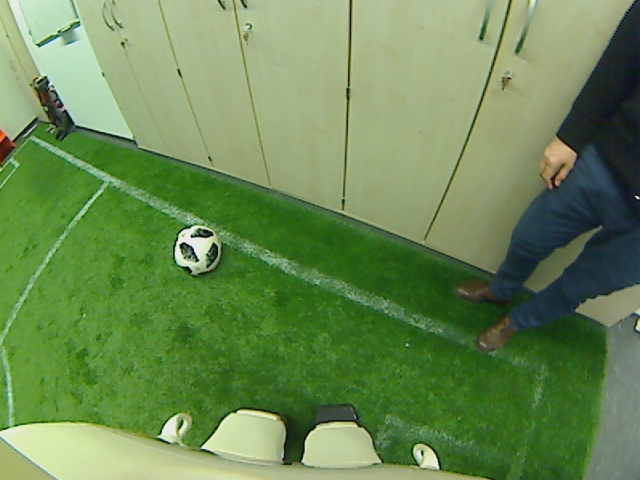ball: (173, 223, 221, 274)
